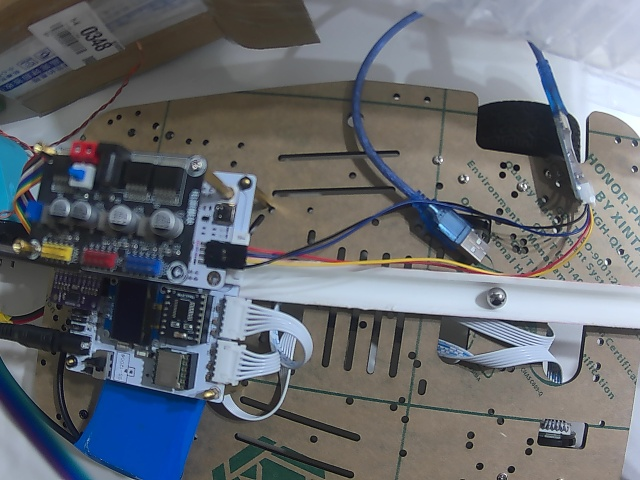steelball: (486, 287, 506, 308)
